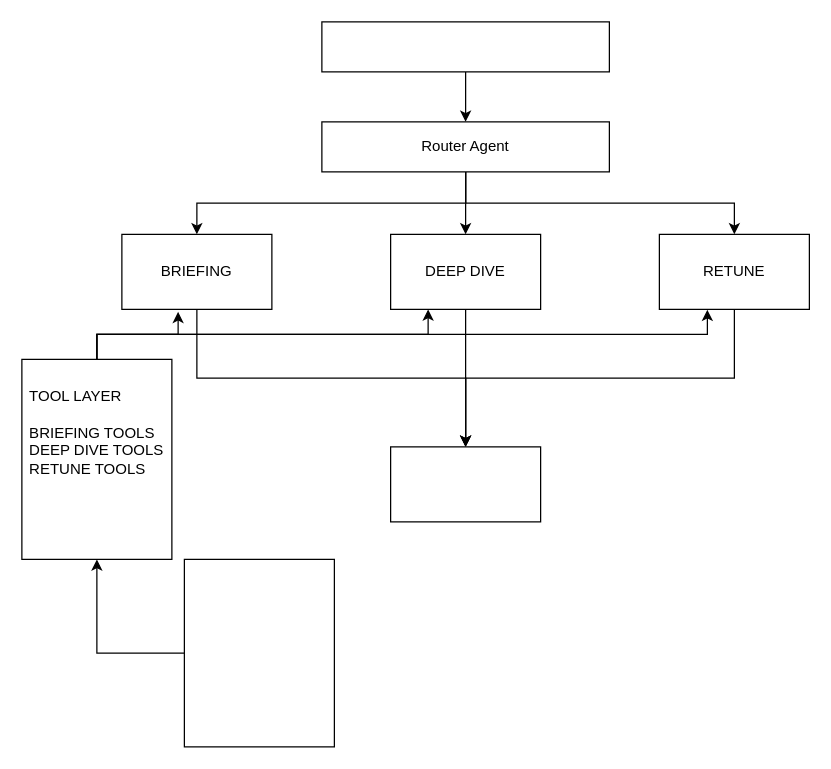
Image size: 831x769. Some labels were removed from this diagram. Here are the shapes that lost their labels. From the top down, the centre of each, then its label:
the point at 465,46: User Message
the point at 465,484: EXPORT
the point at 258,652: SUB AGENTS Copy Writer Agent Risk Screener
